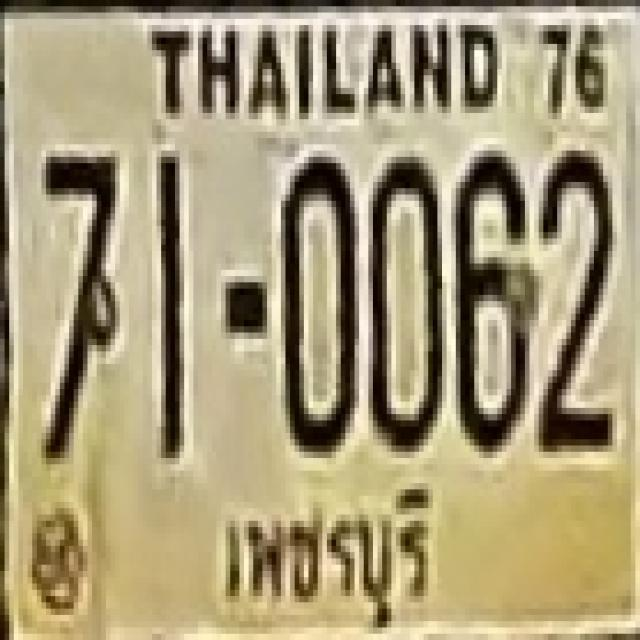0: (276, 150, 355, 446), (366, 150, 440, 446)
1: (156, 154, 194, 466)
2: (536, 148, 622, 457)
6: (451, 144, 534, 446)
7: (42, 150, 119, 462)
PBI: (206, 480, 439, 638)
